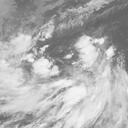cyclone: (31, 42, 109, 114)
